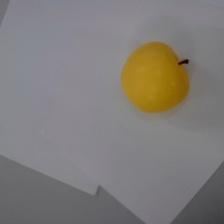yellow: (120, 40, 189, 113)
